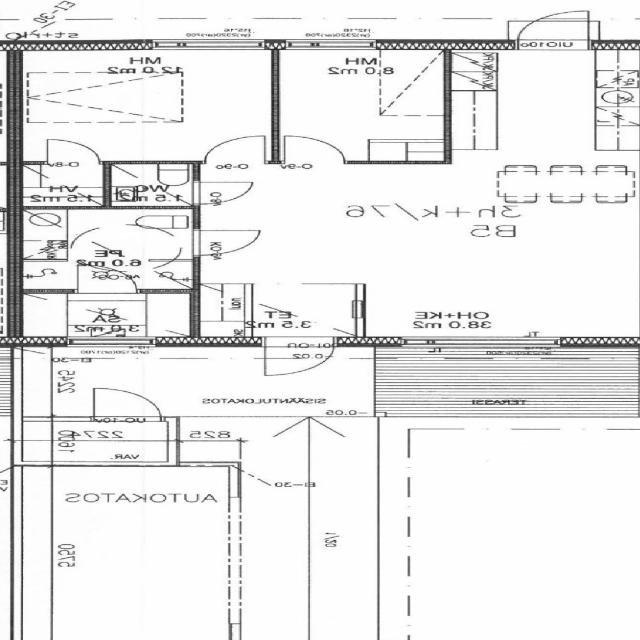door: (520, 10, 588, 50), (266, 336, 335, 374), (96, 389, 161, 422), (79, 265, 137, 293), (206, 136, 266, 163), (285, 136, 345, 163), (193, 231, 260, 255), (194, 182, 252, 204), (49, 139, 100, 164)
